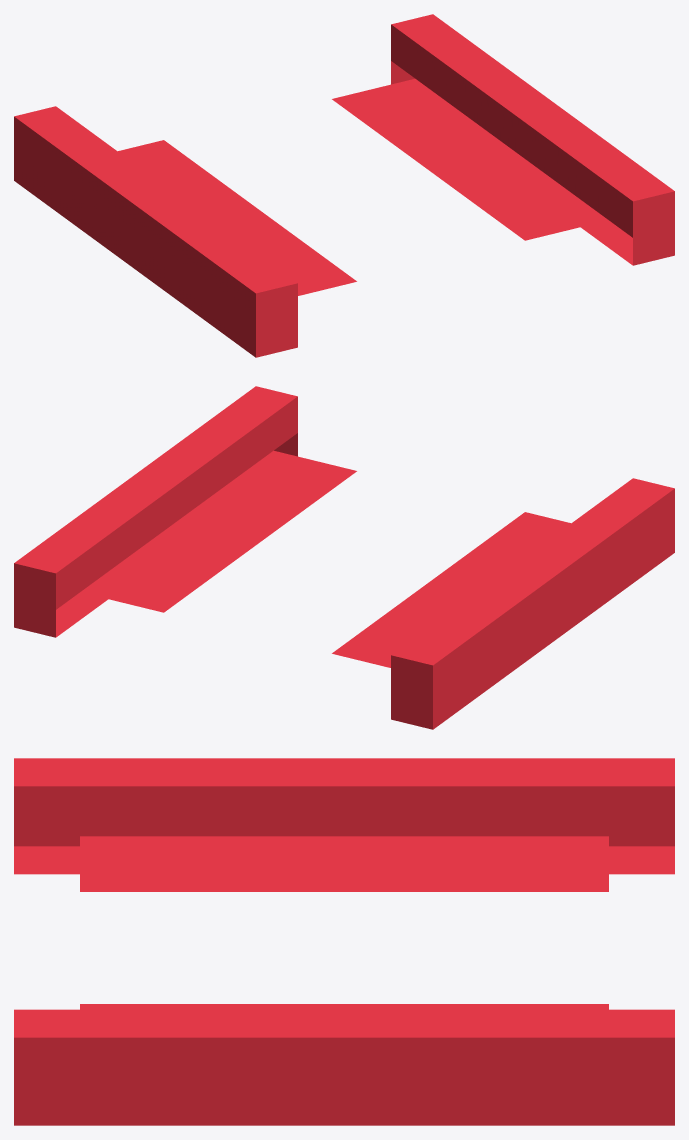
The model's file is Paredes 7.FBX.
3 views of the same model, one above another, from view 1: azimuth 30°, elevation 25°; view 2: azimuth 150°, elevation 25°; view 3: azimuth 270°, elevation 25° (orthographic). The views are drawn at different scales.
Parts seen in each view (by area): view 1: tunnelWide; view 2: tunnelWide; view 3: tunnelWide.
Part boxes in pixels (x1,y1,x2,y2): tunnelWide: [14, 14, 674, 357]; tunnelWide: [14, 386, 674, 729]; tunnelWide: [14, 758, 674, 1125].
Bounding box in the file's own units: 99.99 × 14.67 × 99.99.
